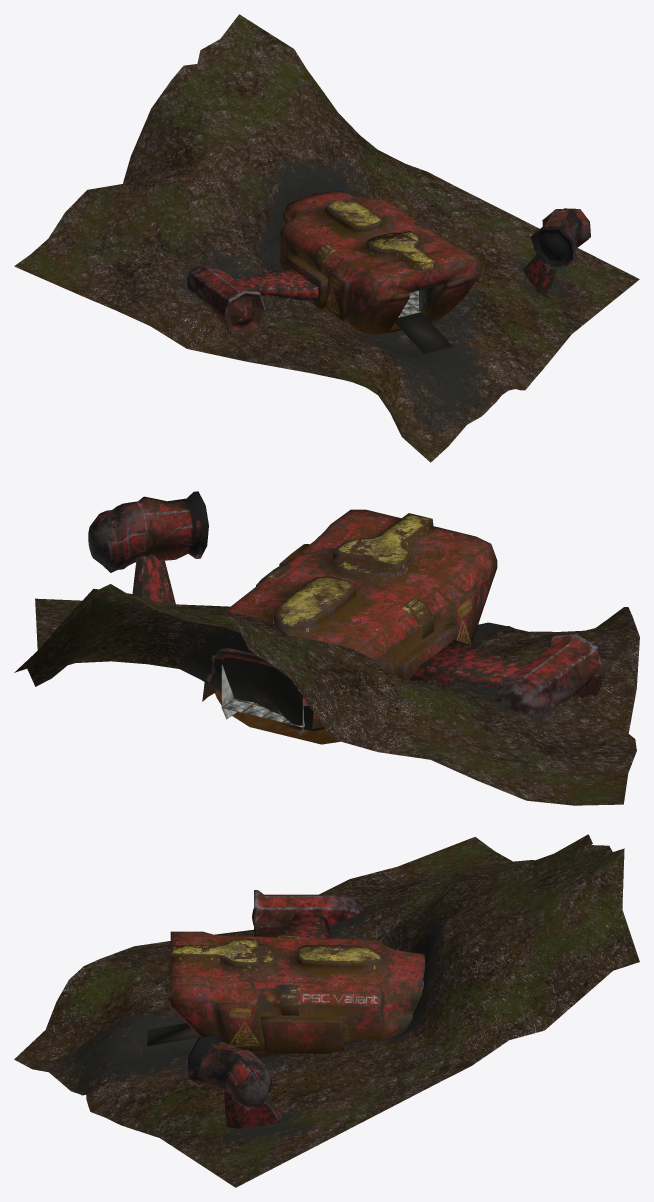
The model's file is CrashedShip.fbx.
3 views of the same model, one above another, from view 1: azimuth 30°, elevation 25°; view 2: azimuth 150°, elevation 25°; view 3: azimuth 270°, elevation 25° (orthographic). The views are drawn at different scales.
Parts seen in each view (by area): view 1: Plane001_19 - Default_0, Ship_low_08 - Default_0, engine_low, BrokeEngine_low_14 - Default_0, Wing_low_09 - Default_0, ramp_07 - Default_0, Object003_low_09 - Default_0; view 2: Plane001_19 - Default_0, Ship_low_08 - Default_0, BrokeEngine_low_14 - Default_0, engine_low, Wing_low_09 - Default_0, Object003_low_09 - Default_0; view 3: Plane001_19 - Default_0, Ship_low_08 - Default_0, BrokeEngine_low_14 - Default_0, engine_low, Object003_low_09 - Default_0, Wing_low_09 - Default_0, ramp_07 - Default_0.
Part boxes in pixels (box(x1,y1,x2,y2)): Plane001_19 - Default_0: box(14, 14, 639, 462); Ship_low_08 - Default_0: box(278, 191, 481, 334); engine_low: box(187, 266, 265, 335); BrokeEngine_low_14 - Default_0: box(531, 208, 590, 269); Wing_low_09 - Default_0: box(234, 269, 324, 302); ramp_07 - Default_0: box(395, 312, 452, 353); Object003_low_09 - Default_0: box(523, 254, 556, 298); Plane001_19 - Default_0: box(14, 584, 639, 805); Ship_low_08 - Default_0: box(202, 509, 497, 744); BrokeEngine_low_14 - Default_0: box(88, 491, 208, 572); engine_low: box(495, 633, 604, 714); Wing_low_09 - Default_0: box(409, 639, 524, 686); Object003_low_09 - Default_0: box(132, 555, 176, 606); Plane001_19 - Default_0: box(14, 834, 639, 1187); Ship_low_08 - Default_0: box(168, 931, 425, 1058); BrokeEngine_low_14 - Default_0: box(186, 1034, 272, 1109); engine_low: box(252, 890, 363, 936); Object003_low_09 - Default_0: box(224, 1091, 282, 1128); Wing_low_09 - Default_0: box(282, 914, 331, 938); ramp_07 - Default_0: box(147, 1023, 199, 1045).
Size of the model in its own units: 732 by 308 by 685.
8 materials, 8 textured.
